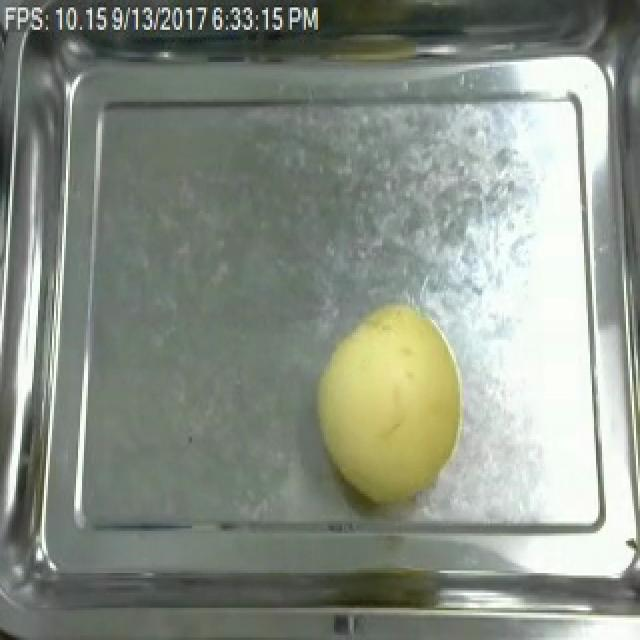Fruit: (306, 293, 472, 506)
